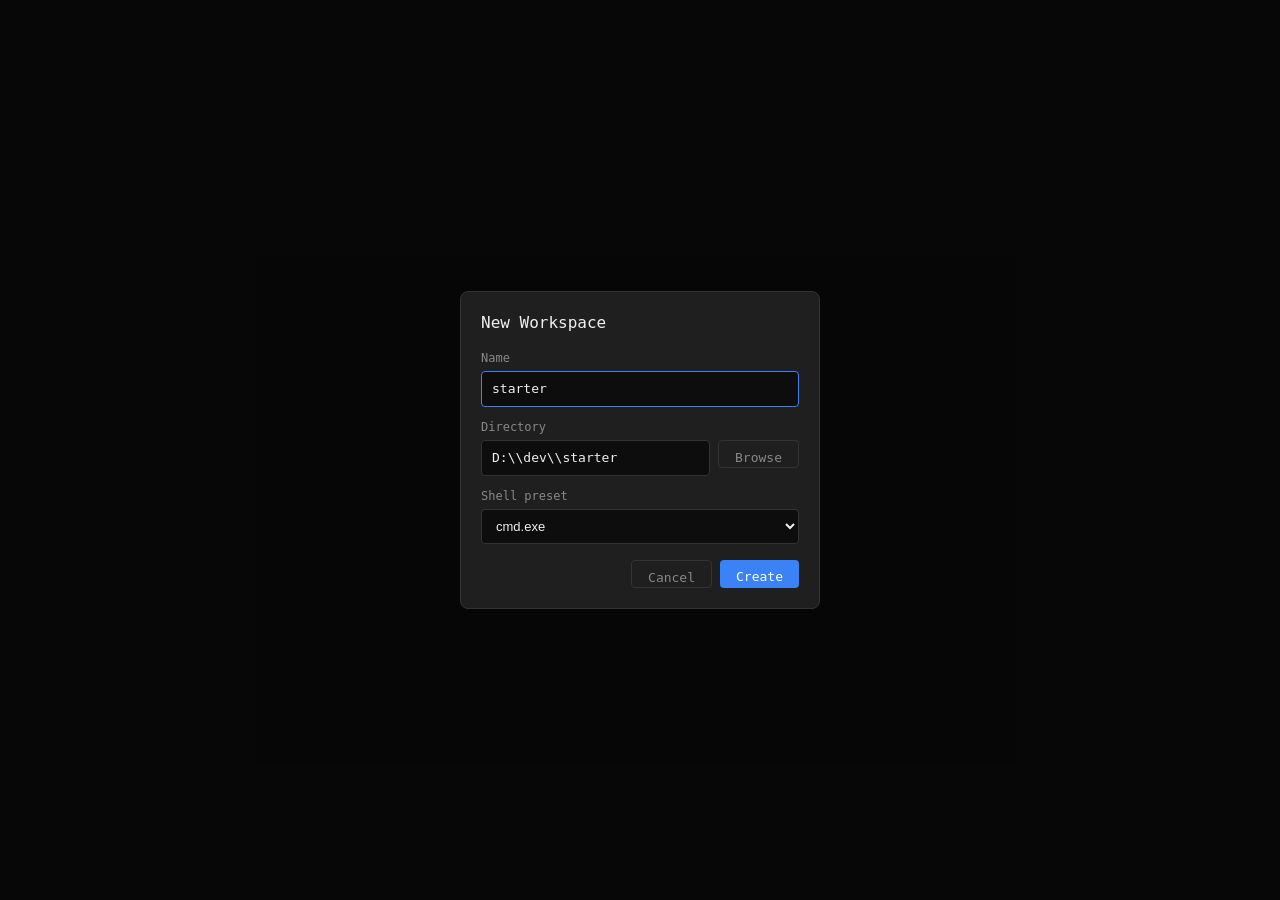
Test: CreateWorkspaceModal › clears a previous browse error when the next browse is cancelled
Click the button "Browse". click: [758, 454]
box: [718,440,799,468]
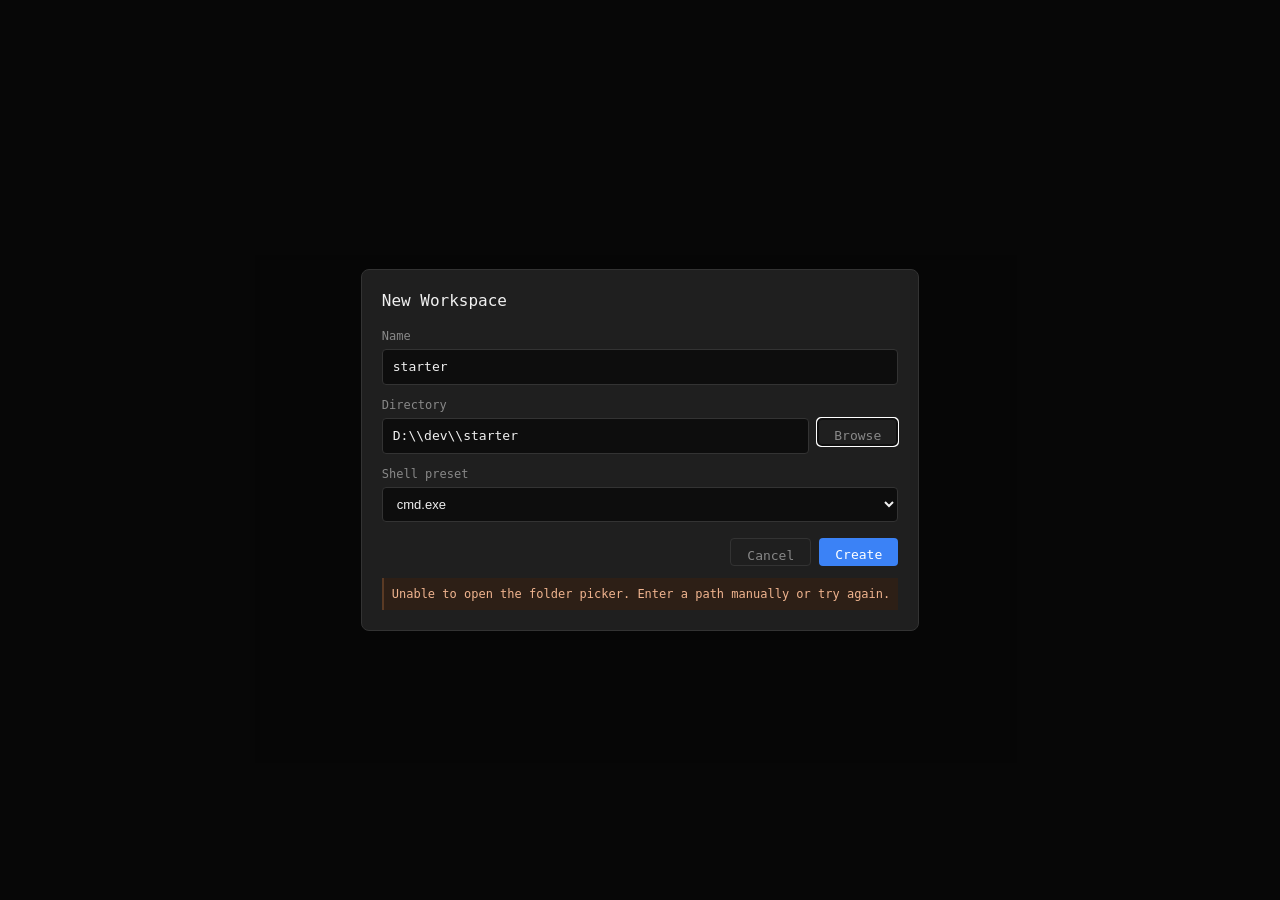
Check: the text "Unable to open the folder picker. Enter a path manually or try again." is shown, box [382,578,898,610]
Click the button "Browse". click: [858, 432]
box: [817,418,898,446]
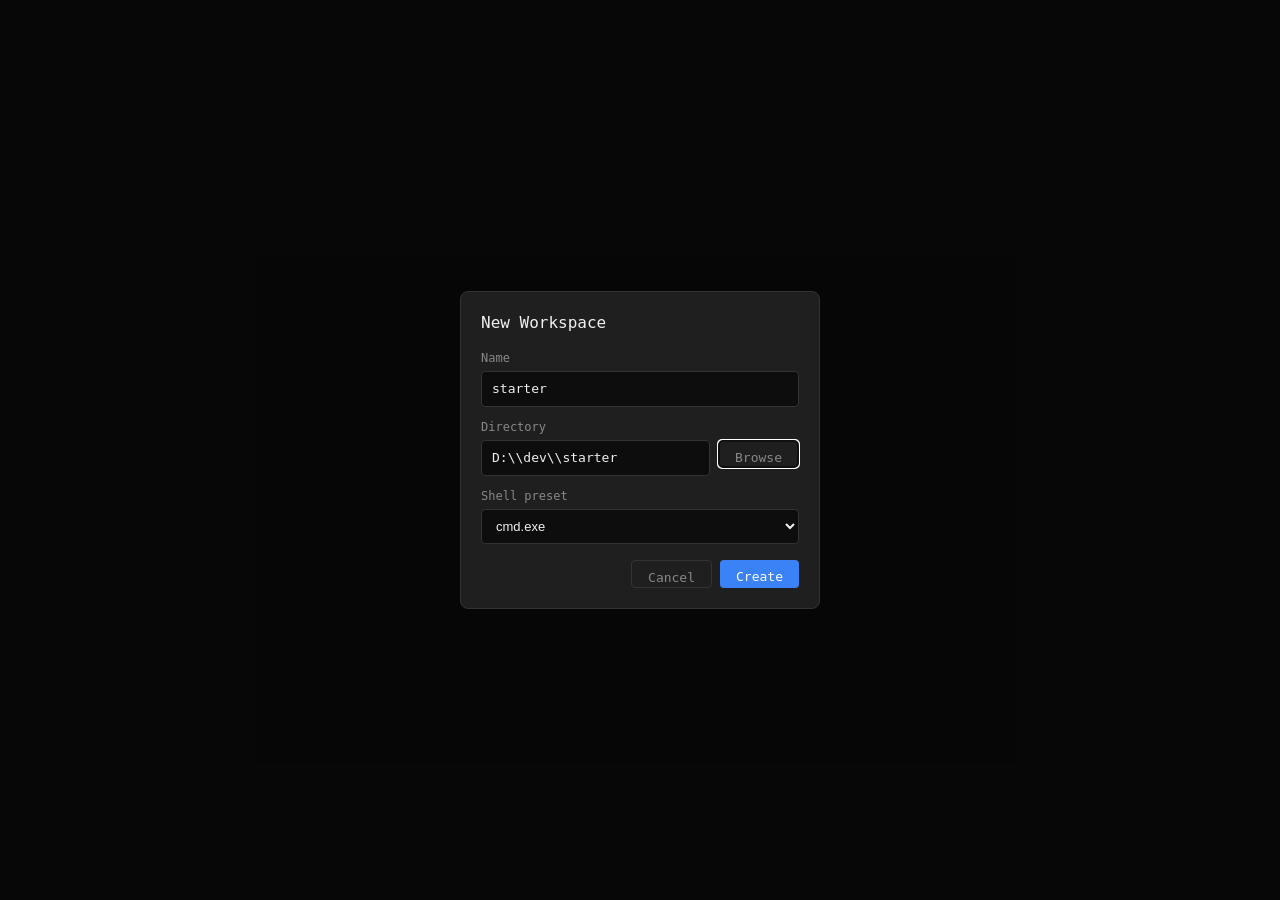
Check: the text "Unable to open the folder picker. Enter a path manually or try again." is gone
